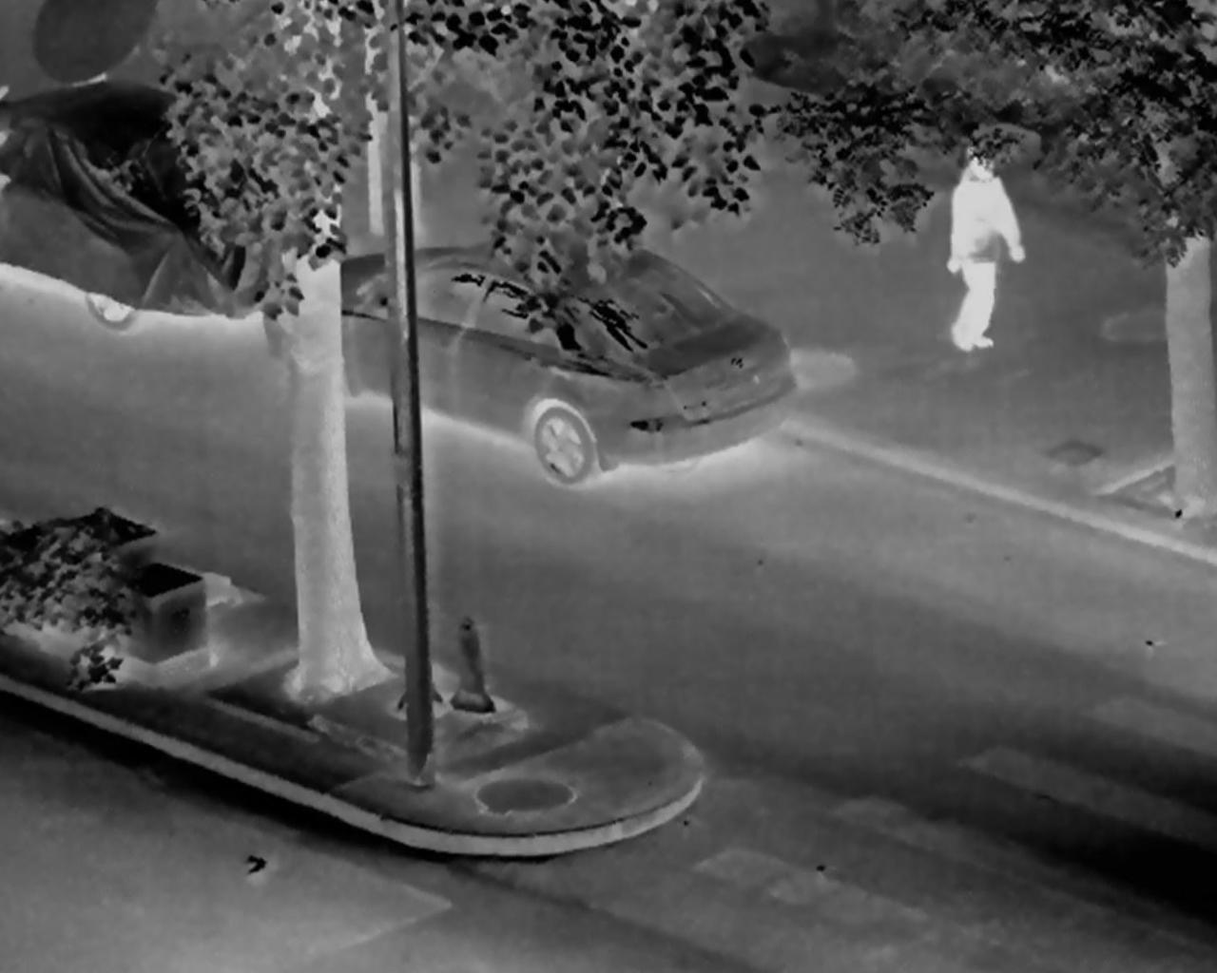person: (943, 145, 1027, 353)
